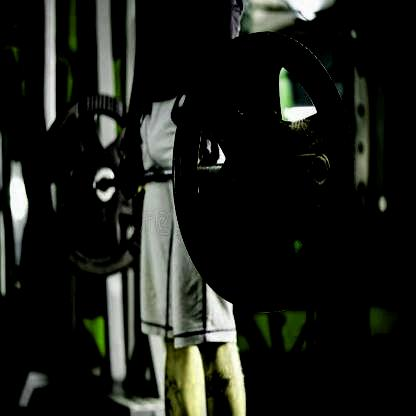Barbell: (308, 151, 334, 190)
